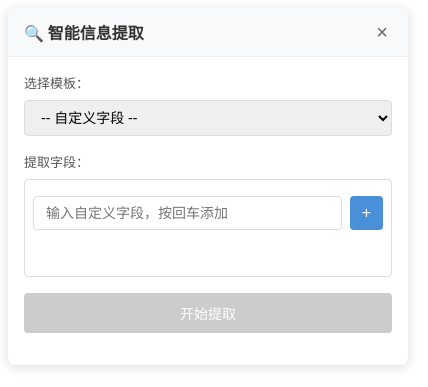
Test: SmartExtractPanel › Extract Button State › should enable extract button when fields and jobId are set
In the field with id "custom-field-input": (187, 213) [33,196,342,230], type "测试字段"
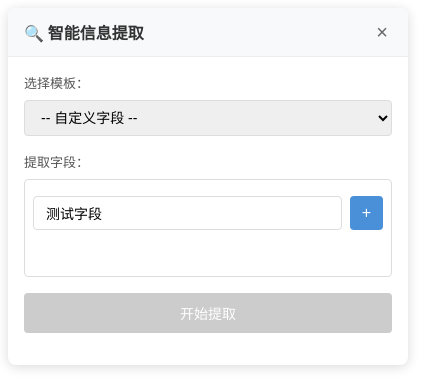
Click the button with id "add-field-btn": (366, 213) [350,196,383,230]
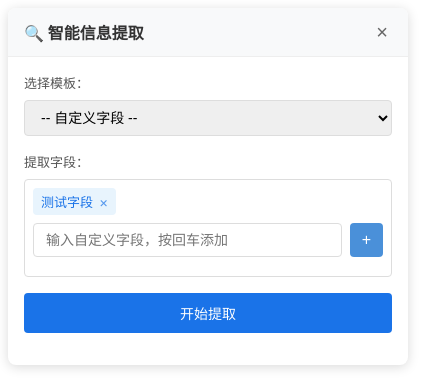
Now the button with id "extract-btn" is enabled, box [24,293,392,333]
